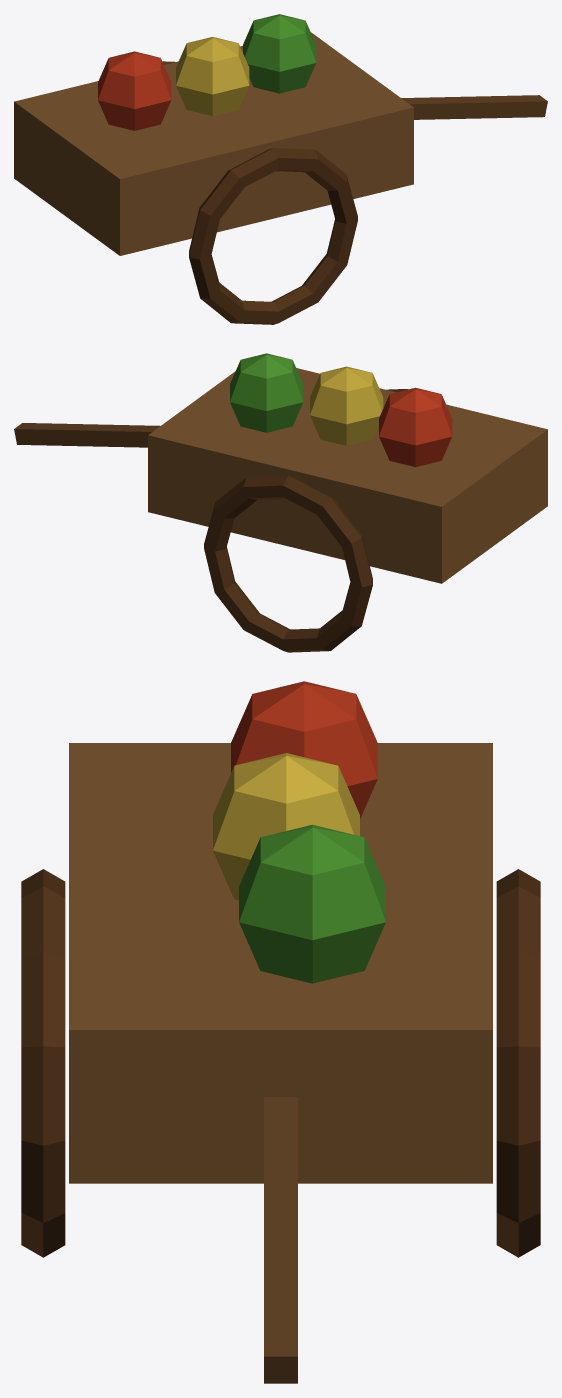
The model's file is p_cart.glb.
3 views of the same model, one above another, from view 1: azimuth 30°, elevation 25°; view 2: azimuth 150°, elevation 25°; view 3: azimuth 270°, elevation 25° (orthographic). The views are drawn at different scales.
Parts seen in each view (by area): view 1: p_cart; view 2: p_cart; view 3: p_cart.
Part boxes in pixels (x1,y1,x2,y2): p_cart: [14, 14, 547, 324]; p_cart: [14, 353, 547, 652]; p_cart: [21, 681, 540, 1383].
Bounding box in the file's own units: 1.3 × 0.63 × 0.612.
